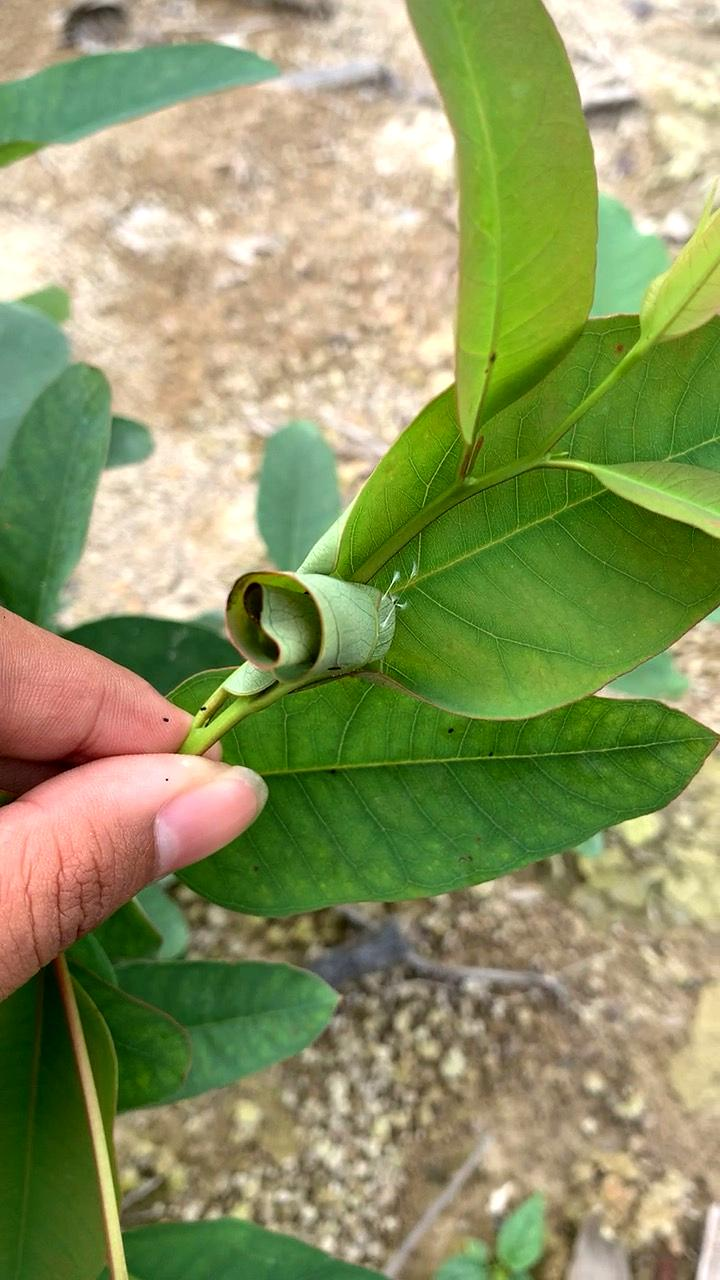Leaf Roller - Leaf: (176, 533, 447, 712)
